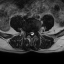CCS_stenosis: (31, 30, 32, 37)
LFS_severe_stenosis: (34, 30, 36, 34)
LLS_normal: (32, 30, 34, 35)
RFS_severe_stenosis: (27, 30, 29, 34)
RLS_stenosis: (29, 30, 31, 35)
